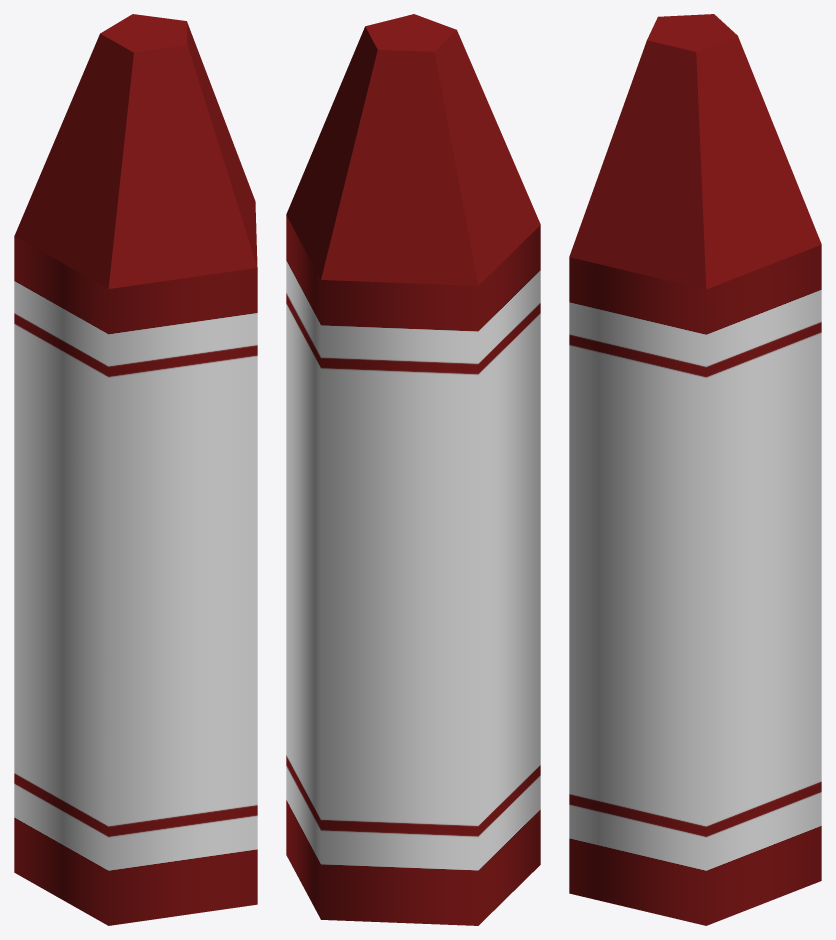
Rendered from Crepas_red.fbx.
3 views of the same model, side by side, from view 1: azimuth 30°, elevation 25°; view 2: azimuth 150°, elevation 25°; view 3: azimuth 270°, elevation 25° (orthographic).
Parts seen in each view (by area): view 1: Rde; view 2: Rde; view 3: Rde.
Boxes of the visible parts, bbox=[...] form: Rde: bbox=[14, 14, 257, 925]; Rde: bbox=[286, 14, 540, 925]; Rde: bbox=[569, 14, 821, 925].
Bounding box in the file's own units: 8.36 × 30.99 × 8.46.
Materials: 1 (1 with a texture image).
